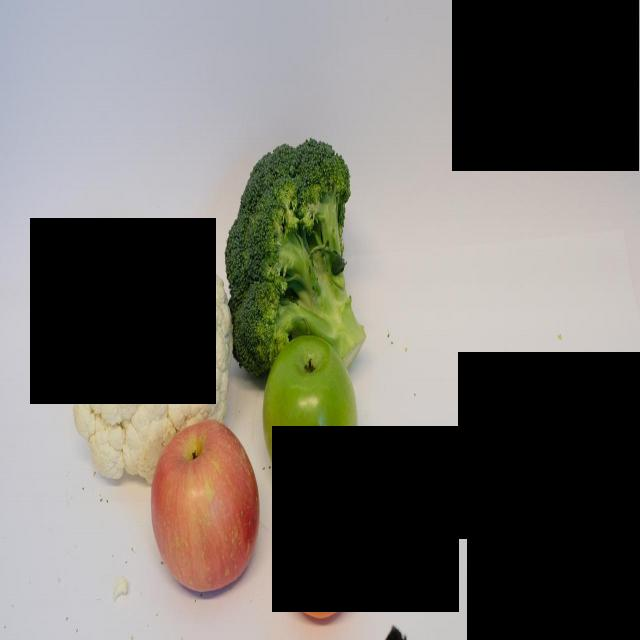apple: (146, 417, 260, 603), (258, 334, 364, 496)
broccoli: (219, 119, 366, 380)
cauliflower: (72, 234, 232, 484)
tomato: (278, 456, 368, 619)
